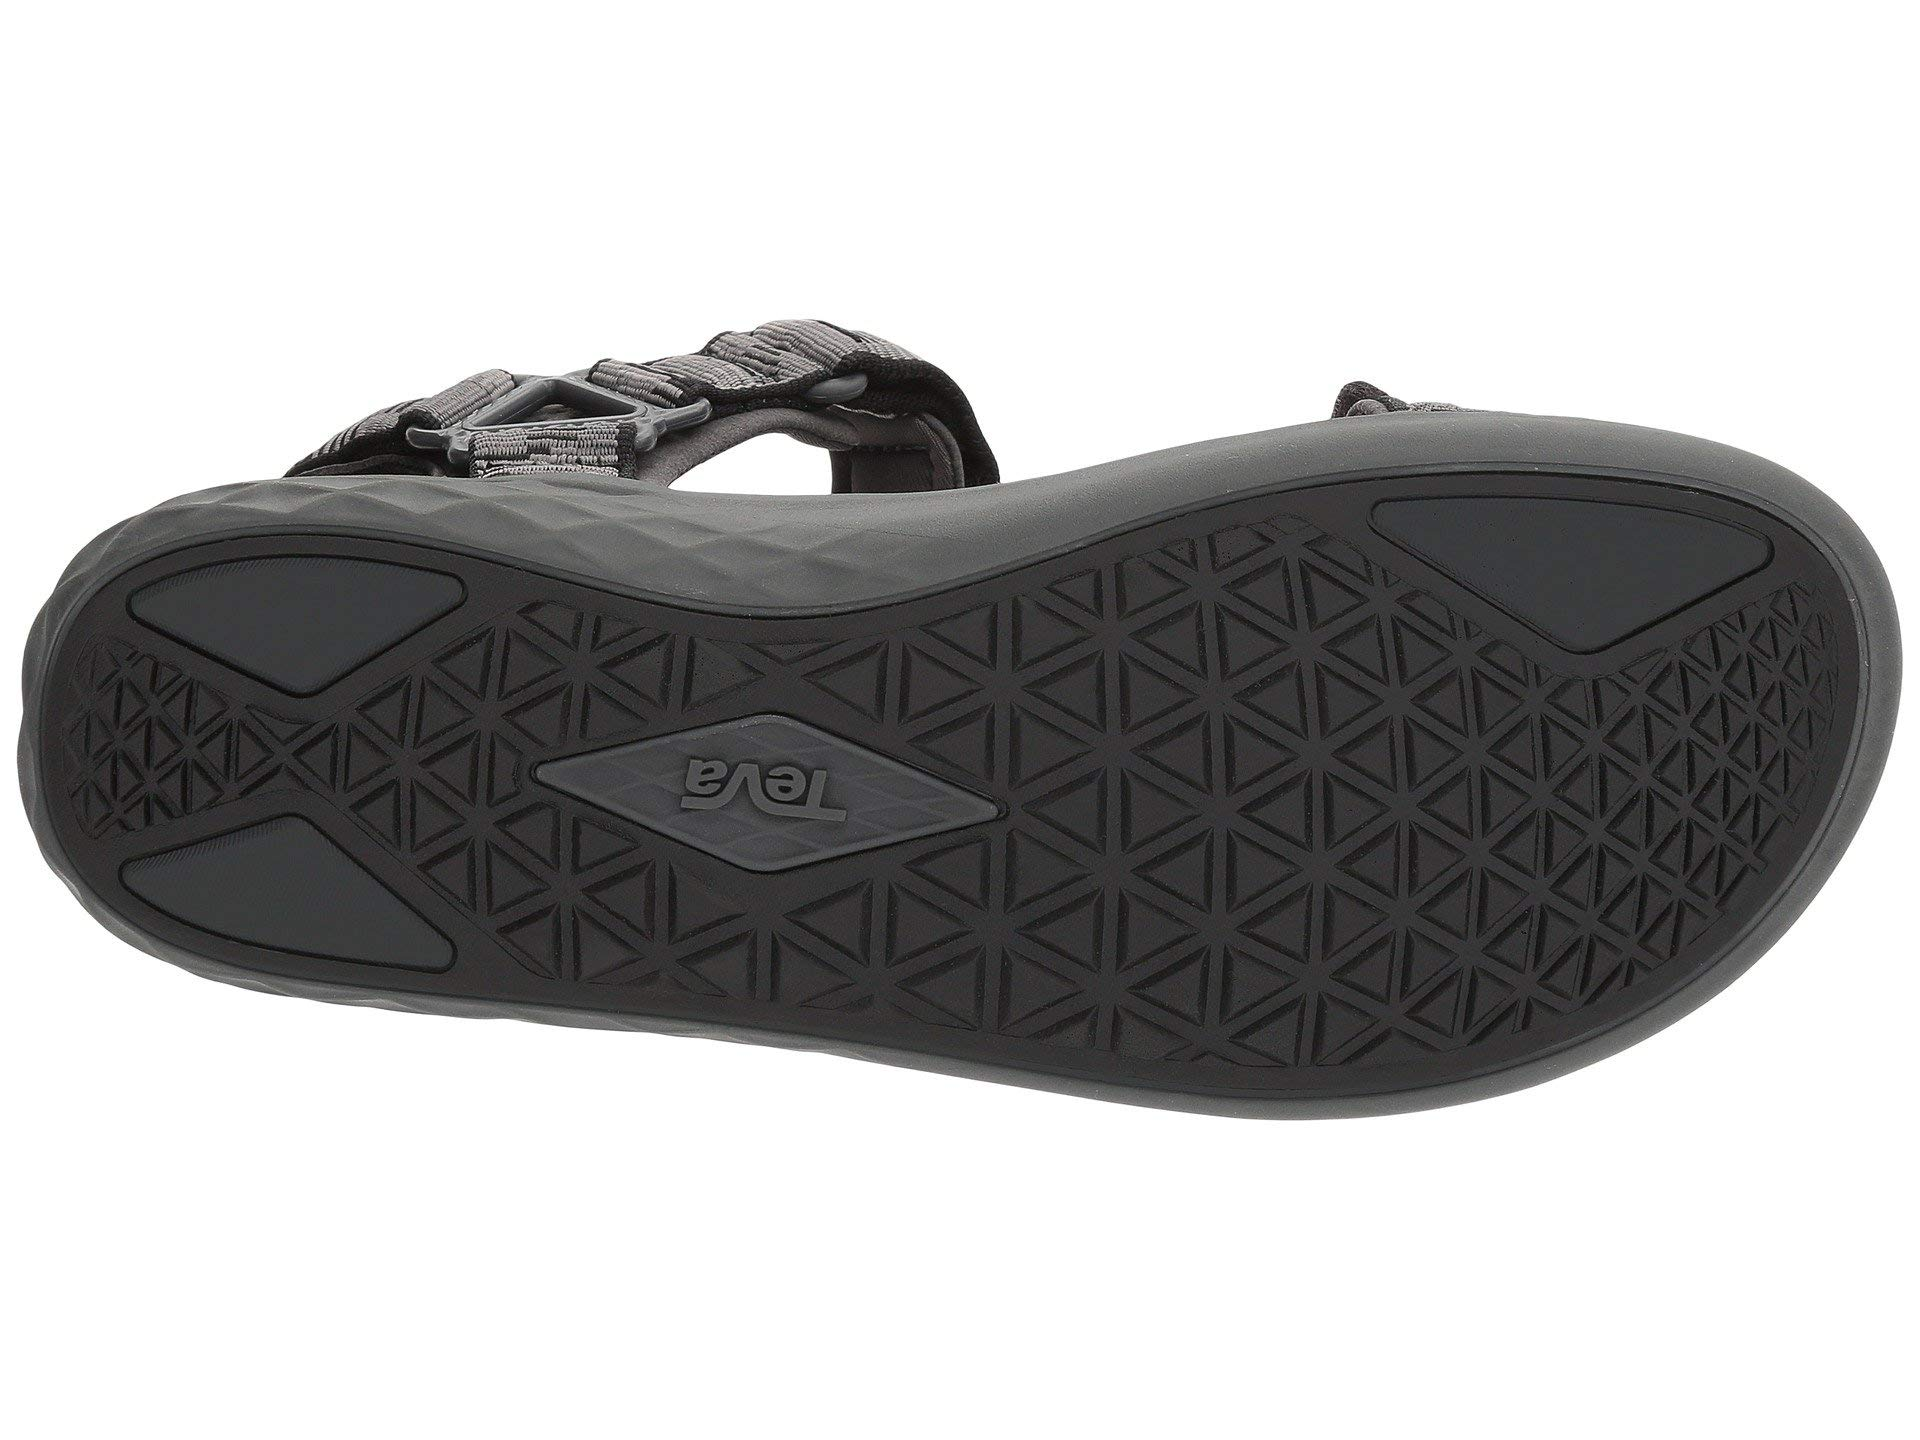polygon: (1039, 569, 1469, 1038), (1522, 663, 1807, 948)
quad: (484, 629, 1008, 1033)
star: (1039, 569, 1469, 1038), (1522, 663, 1807, 948)
text: (484, 629, 1008, 1033)
triangle: (484, 629, 1008, 1033), (1039, 569, 1469, 1038), (98, 554, 503, 979), (1522, 663, 1807, 948)
